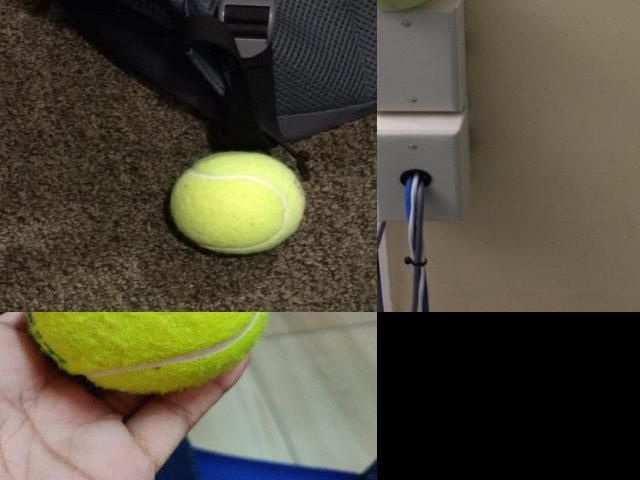tennis-ball: (22, 312, 270, 393), (170, 150, 306, 255), (378, 0, 430, 12)
